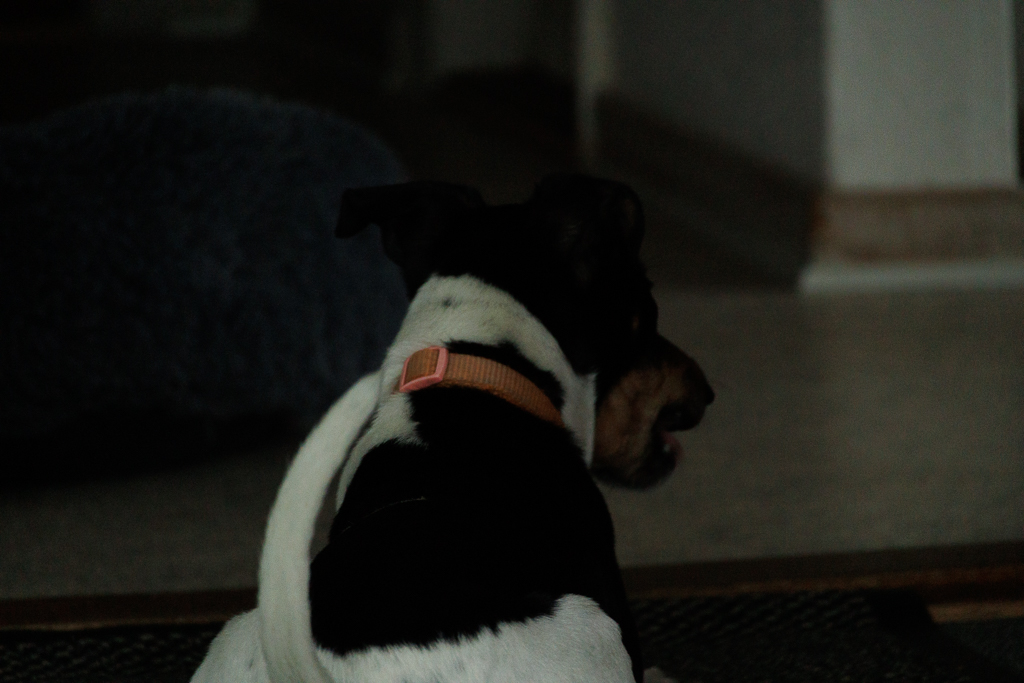Dog: (176, 139, 735, 683)
